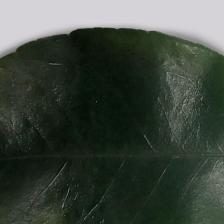healthy: (0, 35, 205, 224)
